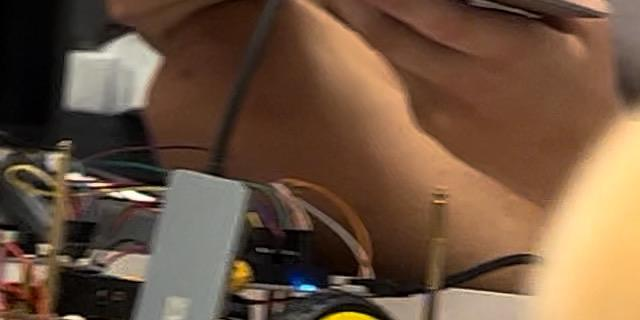burger: (478, 0, 640, 320)
